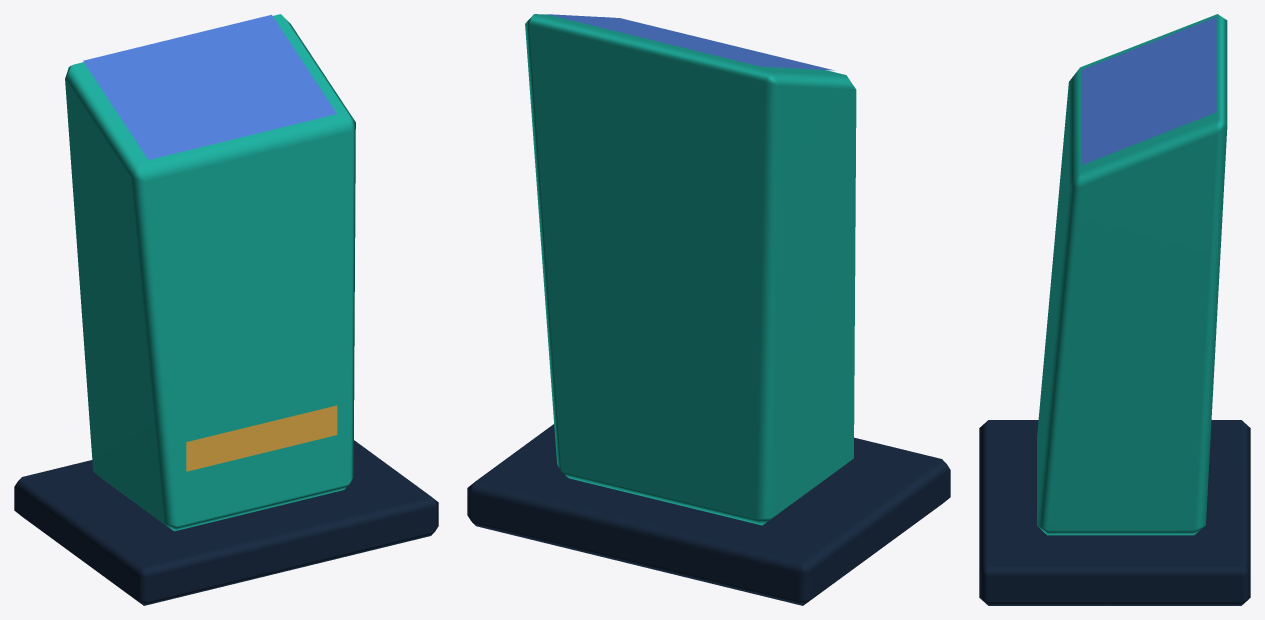
The model's file is CM_Tycoon_ManagementTerminal.fbx.
3 renders of one model, left to right at view 1: azimuth 30°, elevation 25°; view 2: azimuth 150°, elevation 25°; view 3: azimuth 270°, elevation 25°, orthographic. The views are drawn at different scales.
Visible parts, largest first — view 1: Body, Face; view 2: Body, Face; view 3: Body, Face.
Part boxes in pixels (<box>): Body: <box>14,14,438,605</box>; Face: <box>83,14,336,159</box>; Body: <box>467,14,950,605</box>; Face: <box>546,14,834,70</box>; Body: <box>979,14,1250,605</box>; Face: <box>1081,17,1216,165</box>.
Size of the model in its own units: 3.2 by 2.4 by 4.58.
1 material, 1 textured.
